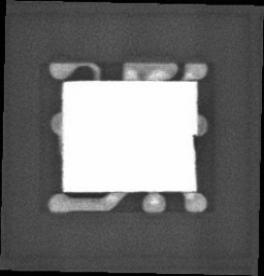DIE_BROKEN: (191, 132, 199, 152)
